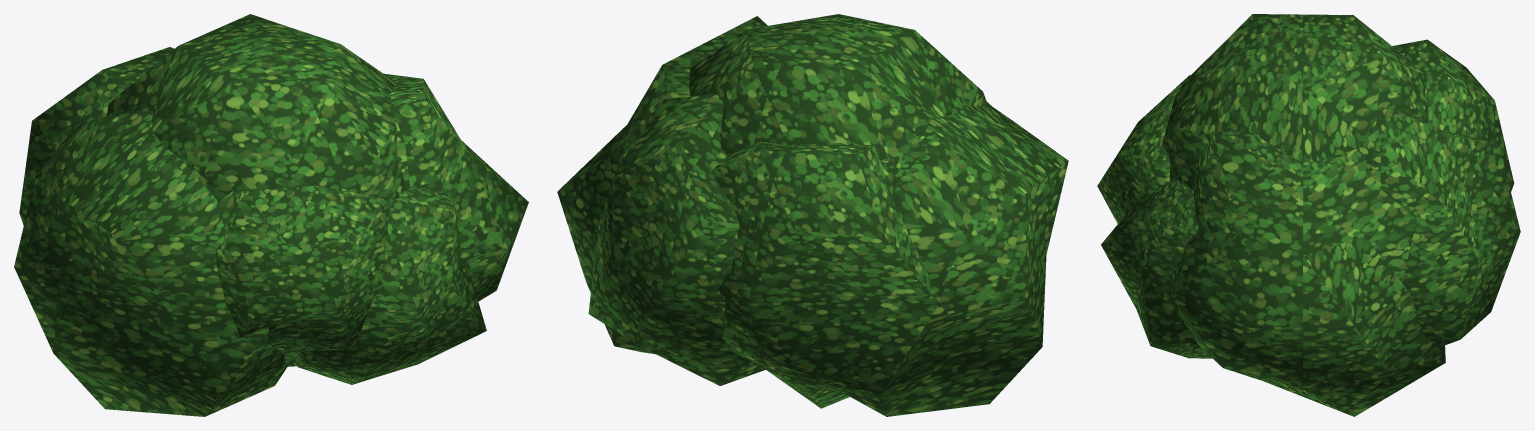
The model's file is Bush.fbx.
The picture shows the model from 3 angles, left to right: view 1: azimuth 30°, elevation 25°; view 2: azimuth 150°, elevation 25°; view 3: azimuth 270°, elevation 25°; orthographic projection. The views are drawn at different scales.
Visible parts, largest first — view 1: Bush; view 2: Bush; view 3: Bush.
Part boxes in pixels (x1,y1,x2,y2): Bush: (14, 14, 528, 416); Bush: (557, 14, 1068, 416); Bush: (1097, 14, 1520, 416).
Size of the model in its own units: 2.5 by 1.84 by 2.13.
